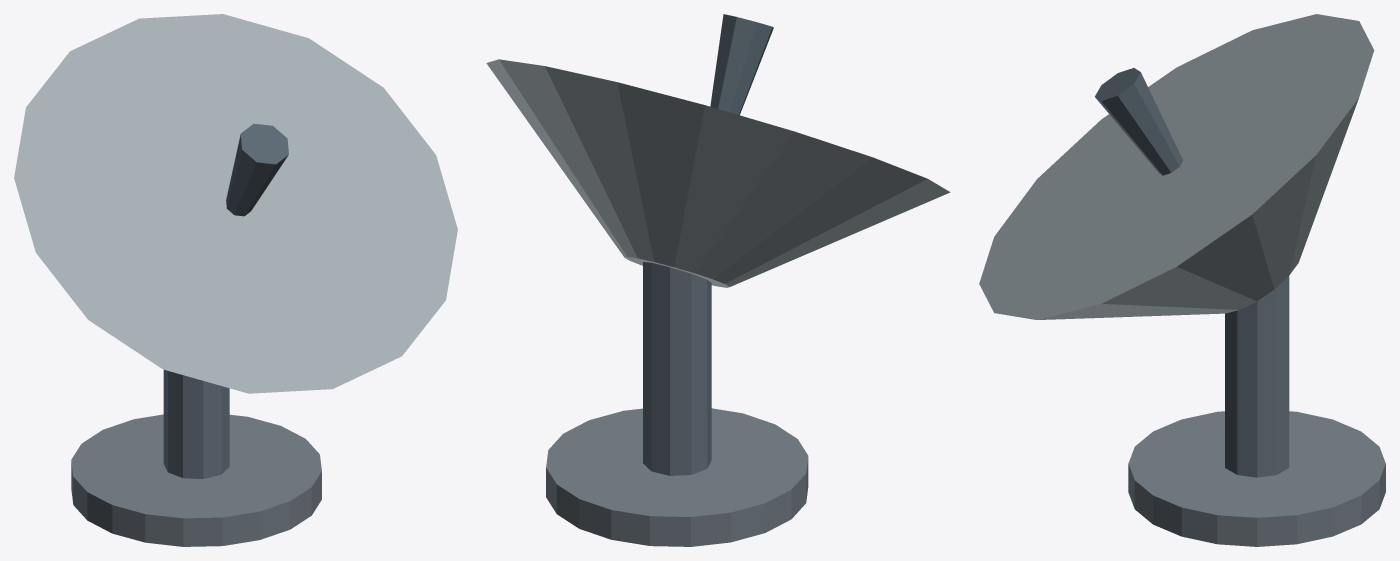
The model's file is DS_Dish.glb.
The picture shows the model from 3 angles, left to right: view 1: azimuth 30°, elevation 25°; view 2: azimuth 150°, elevation 25°; view 3: azimuth 270°, elevation 25°; orthographic projection. The views are drawn at different scales.
Visible parts, largest first — view 1: DS_Dish; view 2: DS_Dish; view 3: DS_Dish.
Part boxes in pixels (<box>): DS_Dish: <box>14,14,457,546</box>; DS_Dish: <box>486,14,950,546</box>; DS_Dish: <box>979,14,1385,546</box>.
Size of the model in its own units: 8.8 by 9.1 by 7.59.
Materials: 1 (1 with a texture image).
